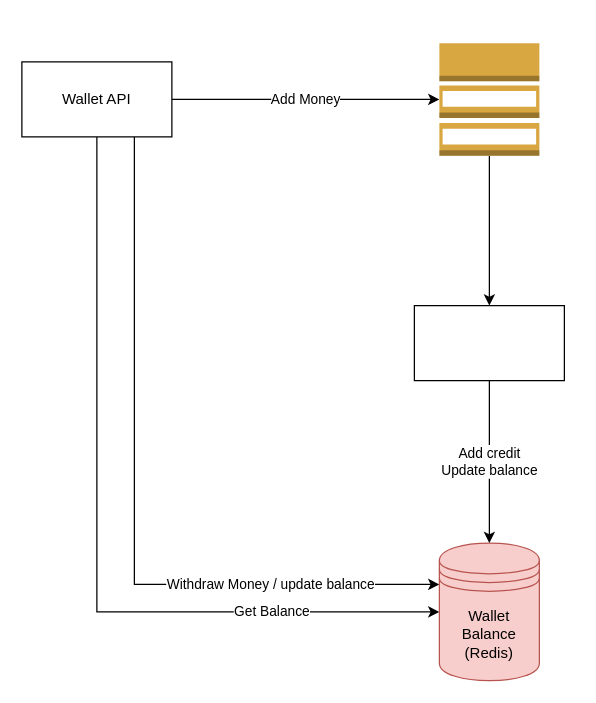
The diagram is 596 pixels wide and 703 high, and some of its shapes have lost their labels. The shapes that lost their labels are listed below. From the top down, each one's centre as x and y in pixels, then its label:
(x=488, y=99): Credit Operations (Kafka)
(x=488, y=342): Credit Processor Service
